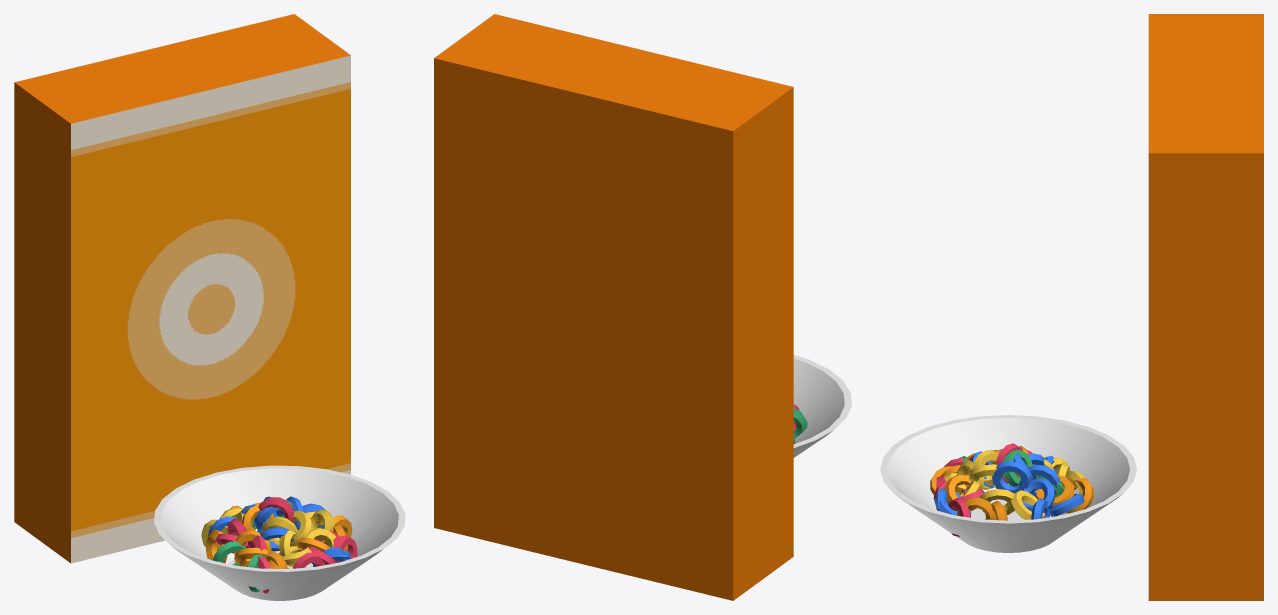
The model's file is Cereal.fbx.
The picture shows the model from 3 angles, left to right: view 1: azimuth 30°, elevation 25°; view 2: azimuth 150°, elevation 25°; view 3: azimuth 270°, elevation 25°; orthographic projection. The views are drawn at different scales.
Visible parts, largest first — view 1: Cereal; view 2: Cereal; view 3: Cereal.
Part boxes in pixels (<box>): Cereal: <box>14,14,405,600</box>; Cereal: <box>434,14,851,600</box>; Cereal: <box>880,14,1263,600</box>.
Size of the model in its own units: 0.2 by 0.3 by 0.233.
Materials: 8 (1 with a texture image).
